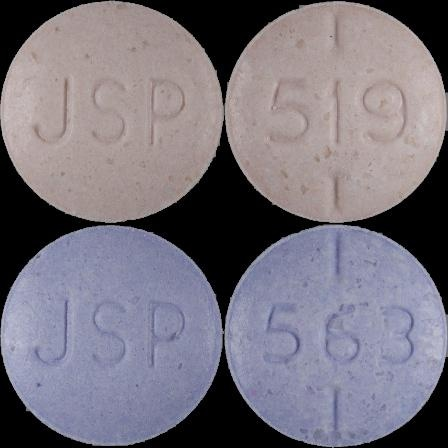51138-052: (0, 0, 224, 224)
